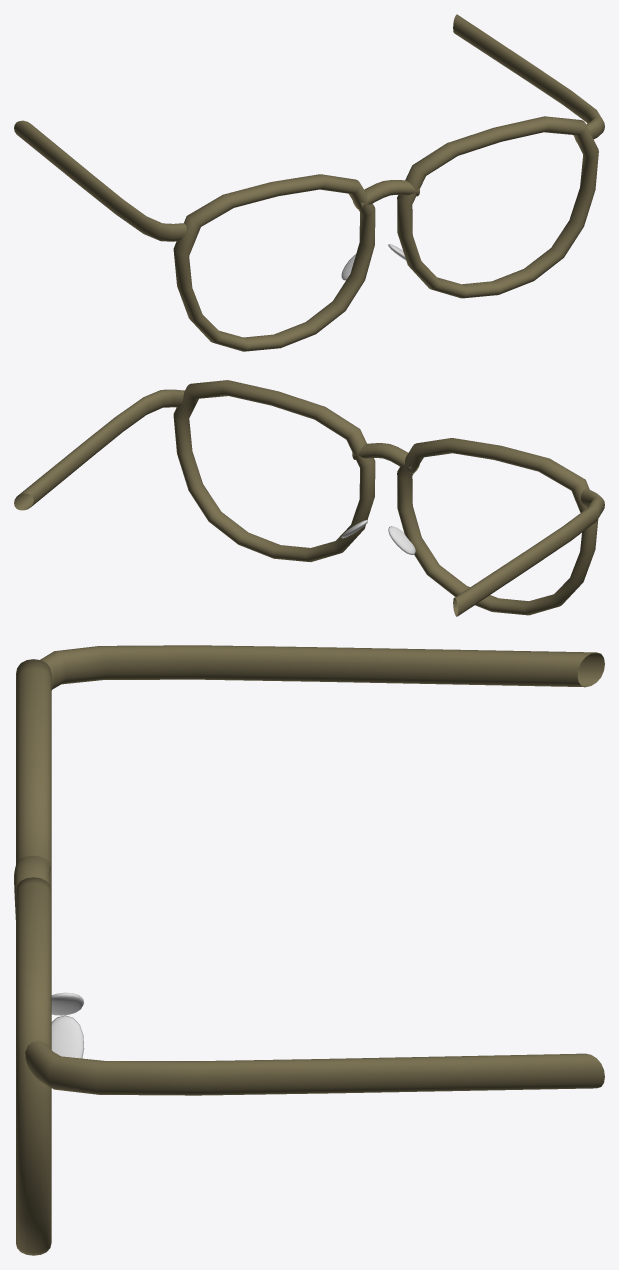
File: c_glasses.fbx
The picture shows the model from 3 angles, top to bottom: view 1: azimuth 30°, elevation 25°; view 2: azimuth 150°, elevation 25°; view 3: azimuth 270°, elevation 25°; orthographic projection. The views are drawn at different scales.
Parts seen in each view (by area): view 1: Ray.013; view 2: Ray.013; view 3: Ray.013.
Boxes of the visible parts, <box> form: Ray.013: <box>14,14,604,351</box>; Ray.013: <box>14,380,604,616</box>; Ray.013: <box>14,645,604,1255</box>.
Size of the model in its own units: 0.2494 by 0.0858 by 0.146.
